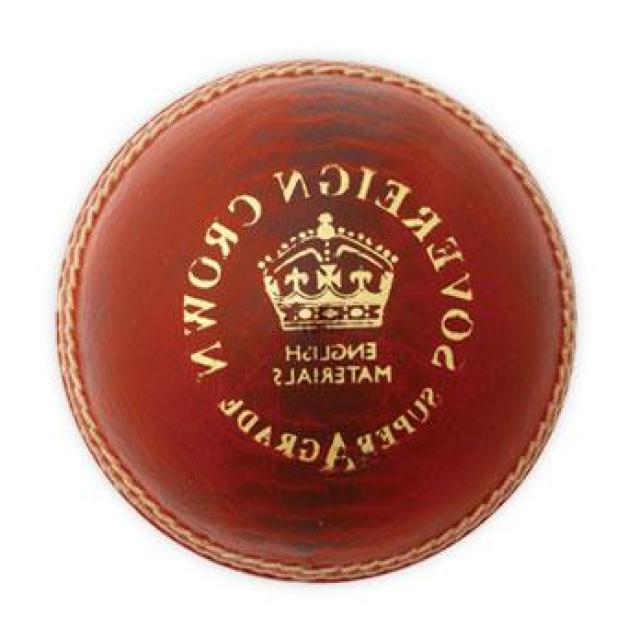ball: (52, 61, 576, 585)
